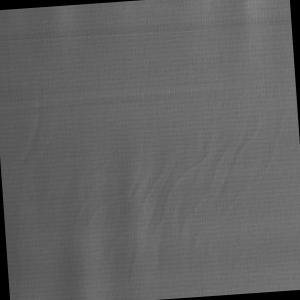Wrinkle: (57, 97, 300, 289), (1, 1, 280, 81), (6, 67, 60, 187)
